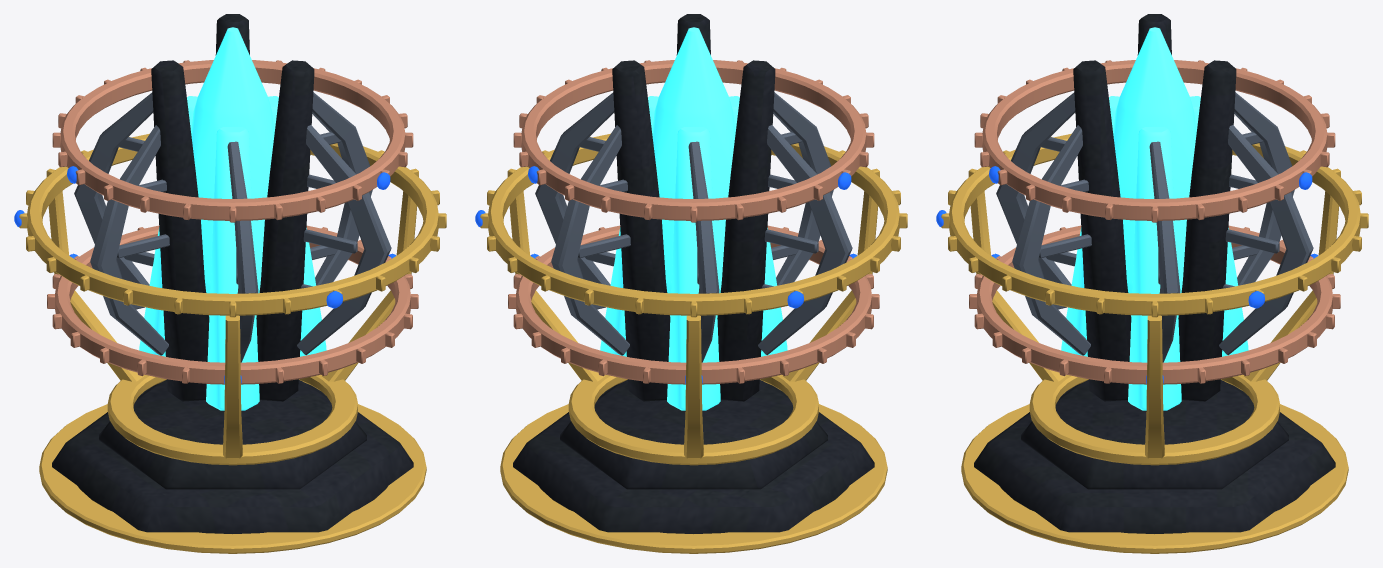
Rendered from relic_reykjavik_cryo.glb.
The picture shows the model from 3 angles, left to right: view 1: azimuth 30°, elevation 25°; view 2: azimuth 150°, elevation 25°; view 3: azimuth 270°, elevation 25°; orthographic projection.
Parts seen in each view (by area): view 1: Cryo_Pedestal_Basalt, Cryo_Pedestal_Gold, Cryo_Basalt_Prisms, Cryo_Titanium_CoolingFins, Cryo_Optical_Lenses, Cryo_Latch_Mesh_2, Cryo_Latch_Mesh_1, Cryo_Latch_Mesh_0; view 2: Cryo_Pedestal_Basalt, Cryo_Pedestal_Gold, Cryo_Basalt_Prisms, Cryo_Titanium_CoolingFins, Cryo_Optical_Lenses, Cryo_Latch_Mesh_2, Cryo_Latch_Mesh_1, Cryo_Latch_Mesh_0; view 3: Cryo_Pedestal_Basalt, Cryo_Pedestal_Gold, Cryo_Basalt_Prisms, Cryo_Titanium_CoolingFins, Cryo_Optical_Lenses, Cryo_Latch_Mesh_2, Cryo_Latch_Mesh_1, Cryo_Latch_Mesh_0.
Part boxes in pixels (x1,y1,x2,y2): Cryo_Pedestal_Basalt: (52, 380, 413, 533); Cryo_Pedestal_Gold: (39, 191, 426, 553); Cryo_Basalt_Prisms: (151, 14, 314, 401); Cryo_Titanium_CoolingFins: (74, 92, 391, 362); Cryo_Optical_Lenses: (139, 27, 326, 410); Cryo_Latch_Mesh_2: (52, 60, 413, 222); Cryo_Latch_Mesh_1: (19, 133, 446, 317); Cryo_Latch_Mesh_0: (47, 225, 418, 384); Cryo_Pedestal_Basalt: (513, 380, 874, 533); Cryo_Pedestal_Gold: (500, 191, 887, 553); Cryo_Basalt_Prisms: (612, 14, 775, 401); Cryo_Titanium_CoolingFins: (535, 92, 852, 362); Cryo_Optical_Lenses: (600, 27, 787, 410); Cryo_Latch_Mesh_2: (513, 60, 874, 222); Cryo_Latch_Mesh_1: (480, 133, 907, 317); Cryo_Latch_Mesh_0: (508, 225, 879, 384); Cryo_Pedestal_Basalt: (974, 380, 1335, 533); Cryo_Pedestal_Gold: (961, 191, 1348, 553); Cryo_Basalt_Prisms: (1073, 14, 1236, 401); Cryo_Titanium_CoolingFins: (996, 92, 1313, 362); Cryo_Optical_Lenses: (1061, 27, 1248, 410); Cryo_Latch_Mesh_2: (974, 60, 1335, 222); Cryo_Latch_Mesh_1: (941, 133, 1368, 317); Cryo_Latch_Mesh_0: (969, 225, 1340, 384).
Size of the model in its own units: 0.768 by 0.8793 by 0.7766.
7 materials, 1 textured.
